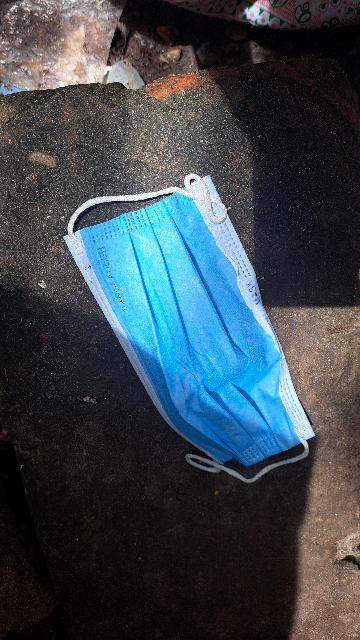mask: (35, 158, 334, 494)
